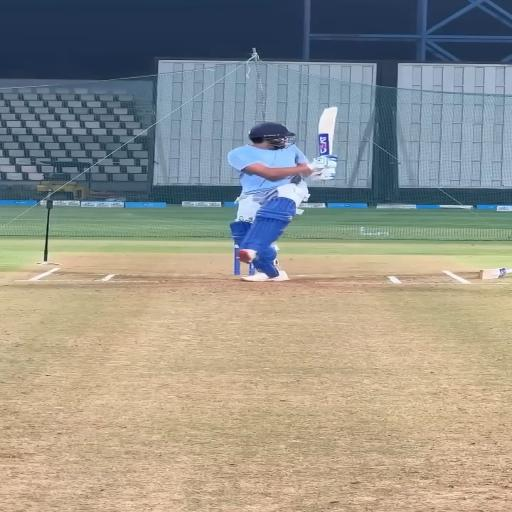Cricket bat: (319, 107, 336, 156)
